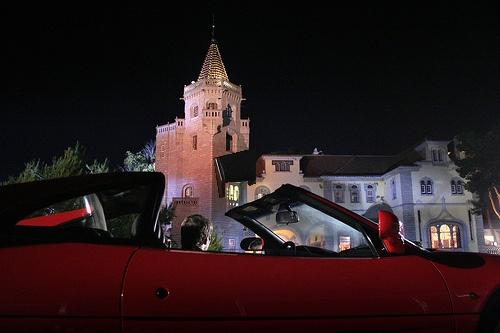tampered: (214, 150, 256, 198)
